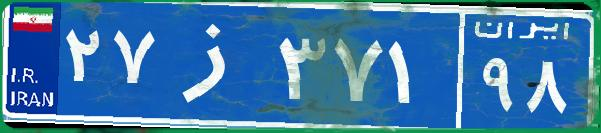1: (385, 28, 445, 110)
2: (57, 26, 110, 107)
3: (273, 28, 330, 110)
7: (330, 28, 385, 110), (110, 28, 158, 105)
8: (525, 38, 570, 115)
9: (475, 38, 525, 113)
ز: (158, 15, 273, 115)
